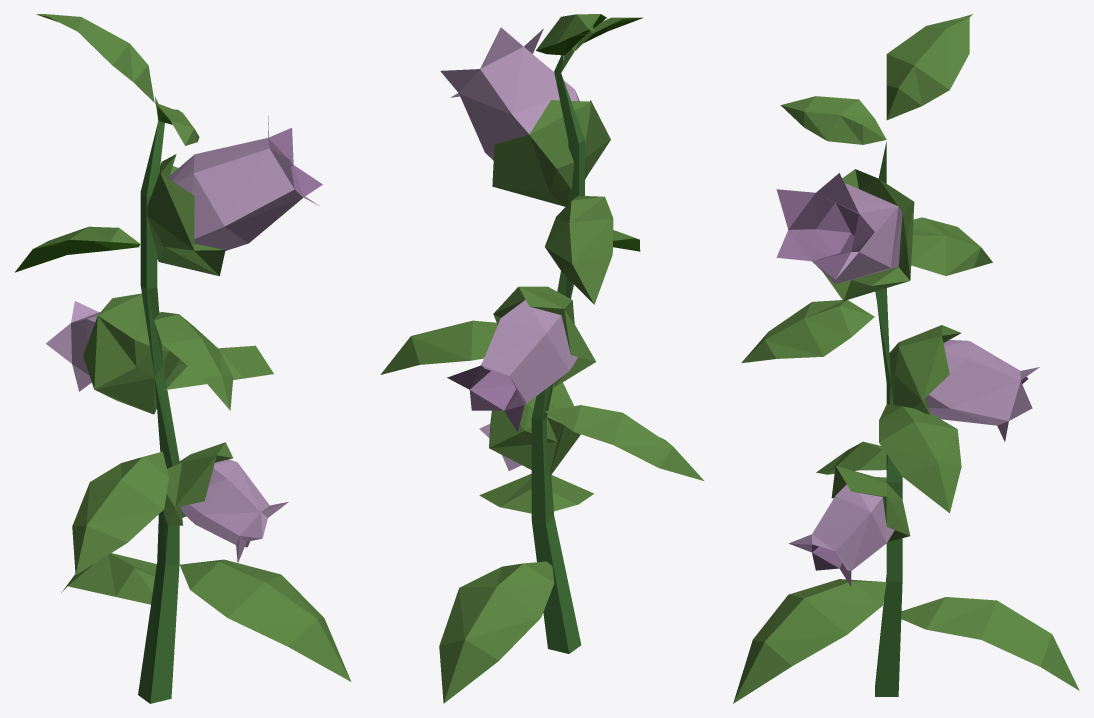
Rendered from belladonna.gltf.
3 renders of one model, left to right at view 1: azimuth 30°, elevation 25°; view 2: azimuth 150°, elevation 25°; view 3: azimuth 270°, elevation 25°, orthographic. The views are drawn at different scales.
Size of the model in its own units: 74 by 180 by 88.
Materials: 1 (1 with a texture image).
